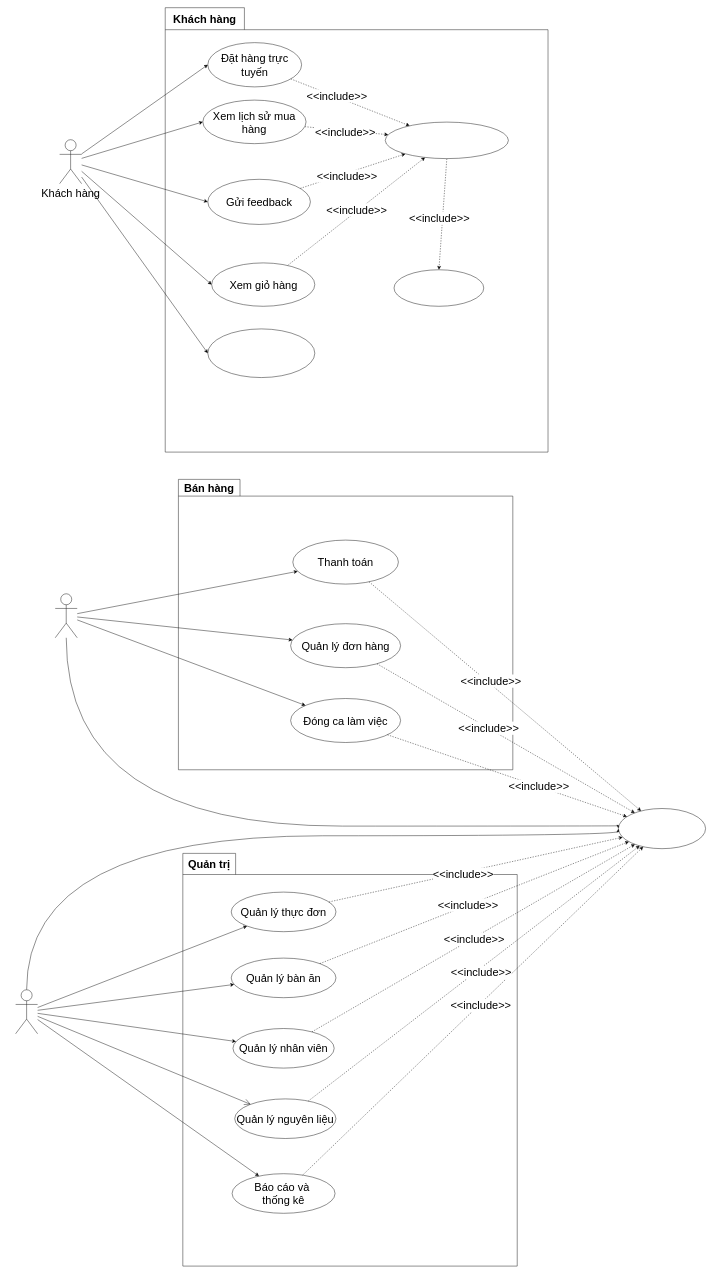
The diagram is 714 pixels wide and 1274 high, and some of its shapes have lost their labels. The centre of each missing label's shape, as x and y in pixels:
Nhân viên thu ngân: the point at 66,615
Quản lý: the point at 26,1011
Xem thực đơn hôm nay: the point at 261,353
Đăng ký: the point at 439,287
Đăng nhập: the point at 446,140
Đăng nhập hệ thống: the point at 662,828
